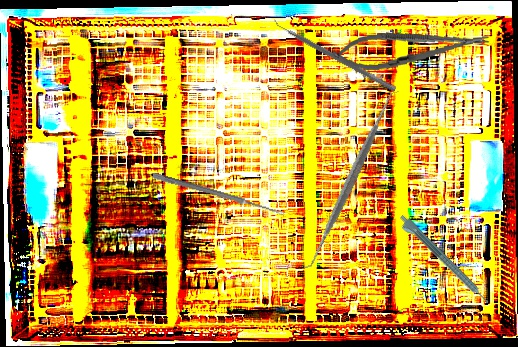Handpiece: (394, 212, 492, 310)
Needle Holder: (330, 21, 492, 76)
Spatula Surgical: (263, 90, 438, 270), (270, 15, 400, 93)
Surgical Spoon: (151, 172, 286, 217)
